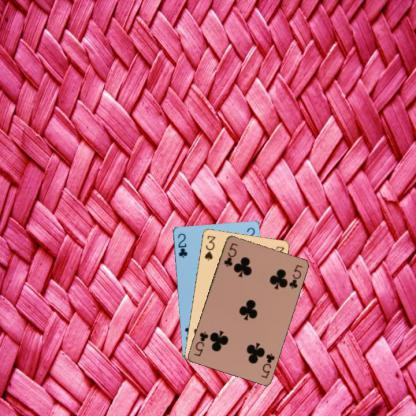2c: (175, 230, 188, 259)
3s: (202, 233, 216, 262)
5c: (221, 240, 239, 268), (258, 351, 276, 379)
